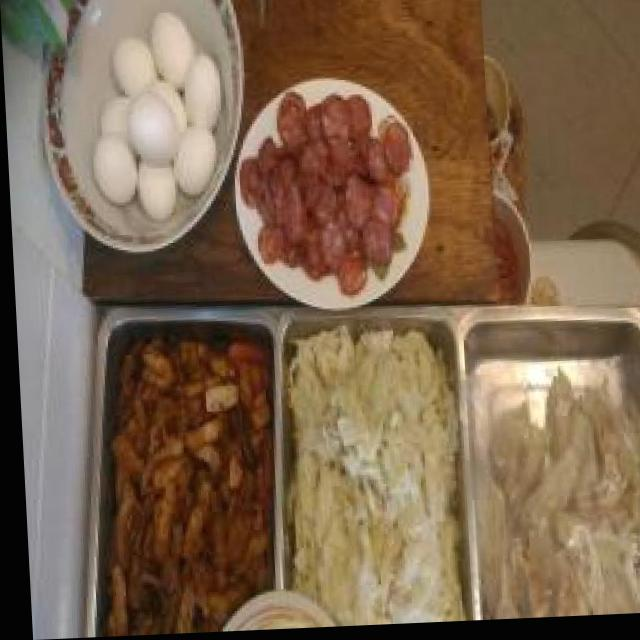chinese_cabbage: (286, 335, 456, 626)
chinese_sausage: (234, 89, 416, 305)
